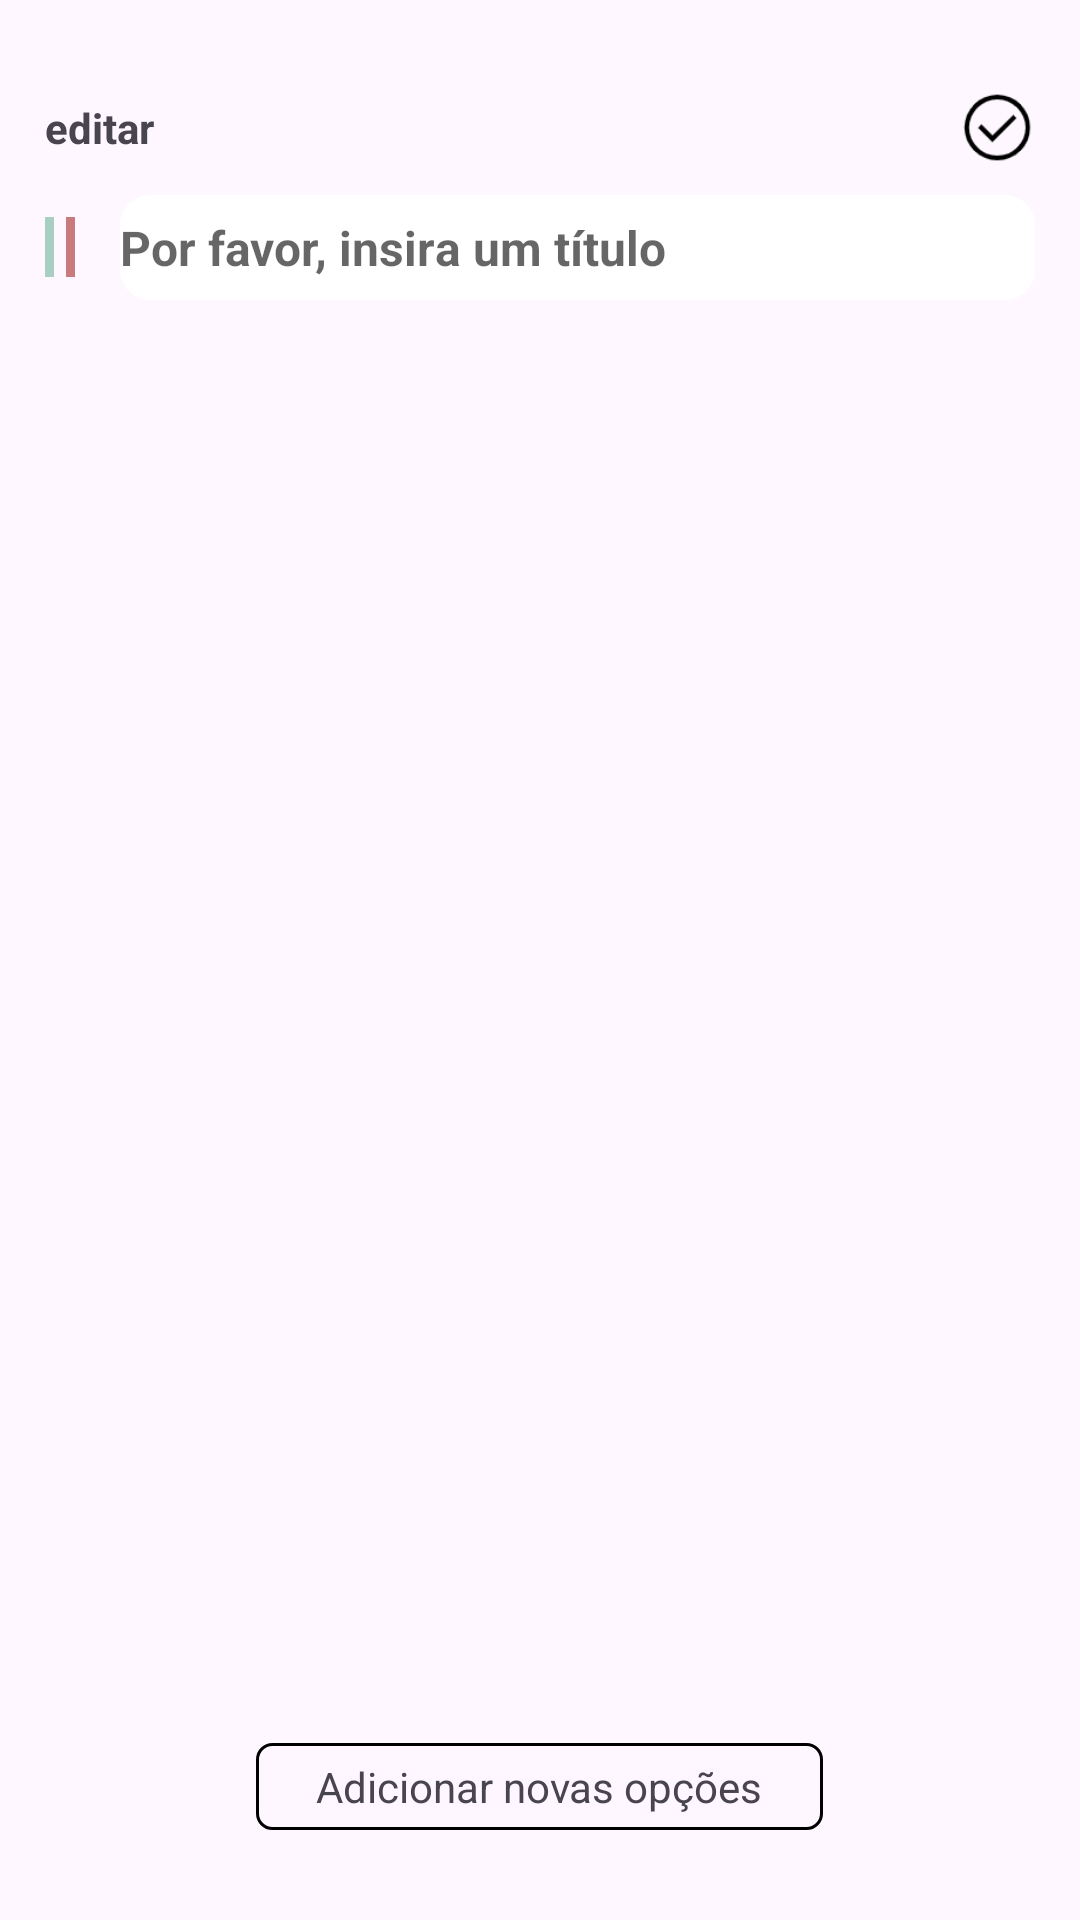

Icons on this 1080px×1920px Android screen, each with its box as (x1, y1, x2, y2):
yuan dui: (964, 94, 1031, 161)
